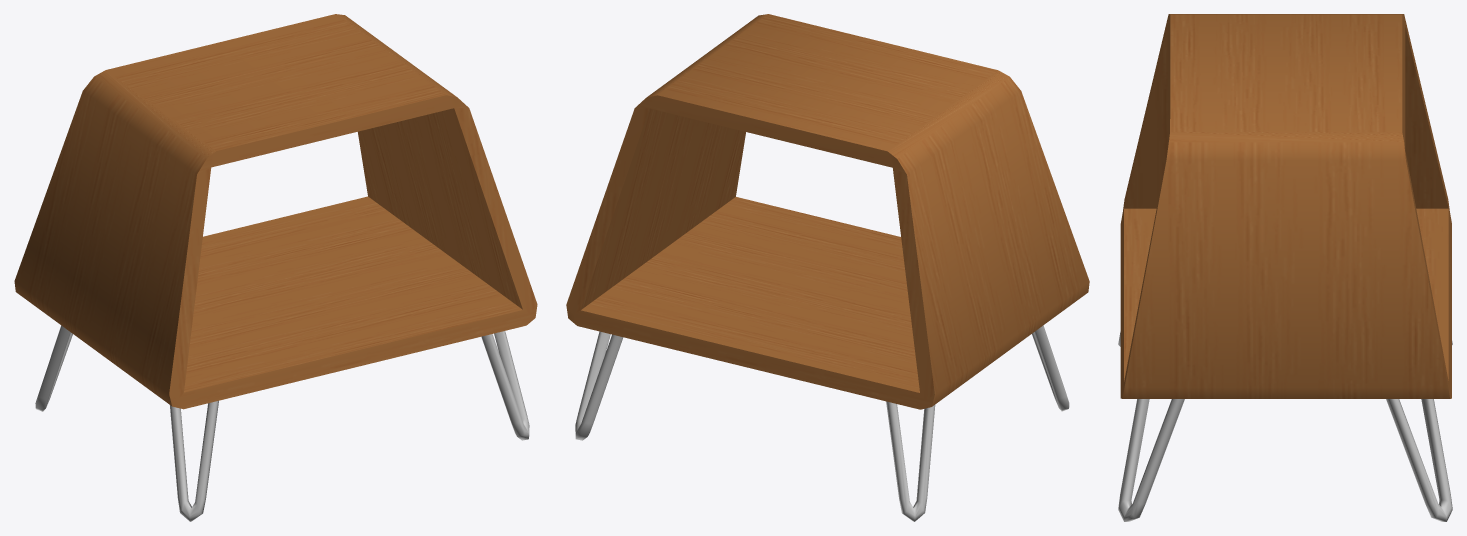
File: Open_End_Table_07.FBX
The picture shows the model from 3 angles, left to right: view 1: azimuth 30°, elevation 25°; view 2: azimuth 150°, elevation 25°; view 3: azimuth 270°, elevation 25°; orthographic projection. The views are drawn at different scales.
Visible parts, largest first — view 1: End_table; view 2: End_table; view 3: End_table.
Part boxes in pixels (x1,y1,x2,y2): End_table: (14,14,537,521); End_table: (566,14,1089,521); End_table: (1118,14,1452,521).
Size of the model in its own units: 134 by 120 by 101.
